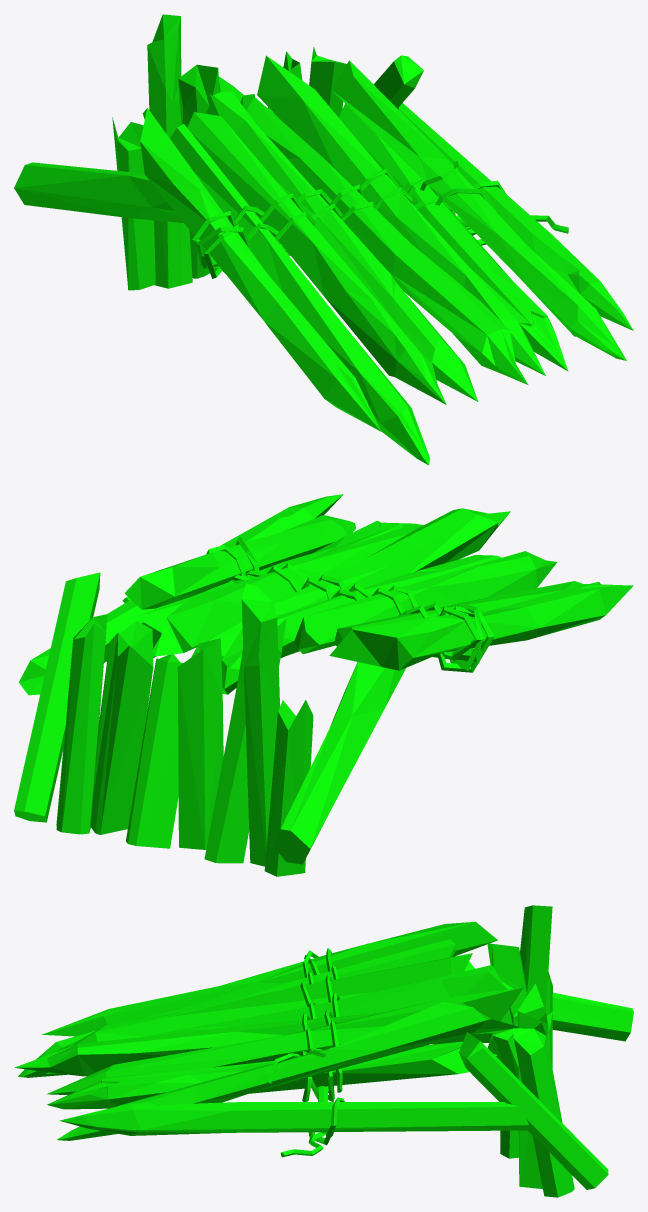
Rendered from SM_Palisade_3m_Broken_E.fbx.
The picture shows the model from 3 angles, top to bottom: view 1: azimuth 30°, elevation 25°; view 2: azimuth 150°, elevation 25°; view 3: azimuth 270°, elevation 25°; orthographic projection. The views are drawn at different scales.
Parts seen in each view (by area): view 1: palisade-3m-broken-e; view 2: palisade-3m-broken-e; view 3: palisade-3m-broken-e.
Boxes of the visible parts, x1,y1,x2,y2 form: palisade-3m-broken-e: [14, 14, 633, 465]; palisade-3m-broken-e: [14, 494, 633, 876]; palisade-3m-broken-e: [14, 905, 633, 1197].
Size of the model in its own units: 3.68 by 2.6 by 6.34.
